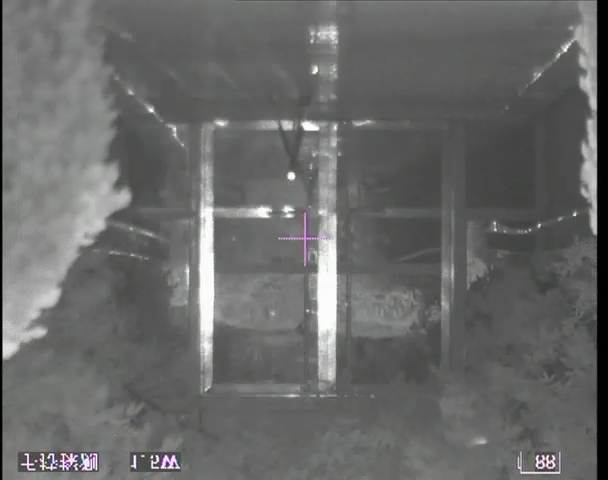my: (286, 170, 296, 182)
